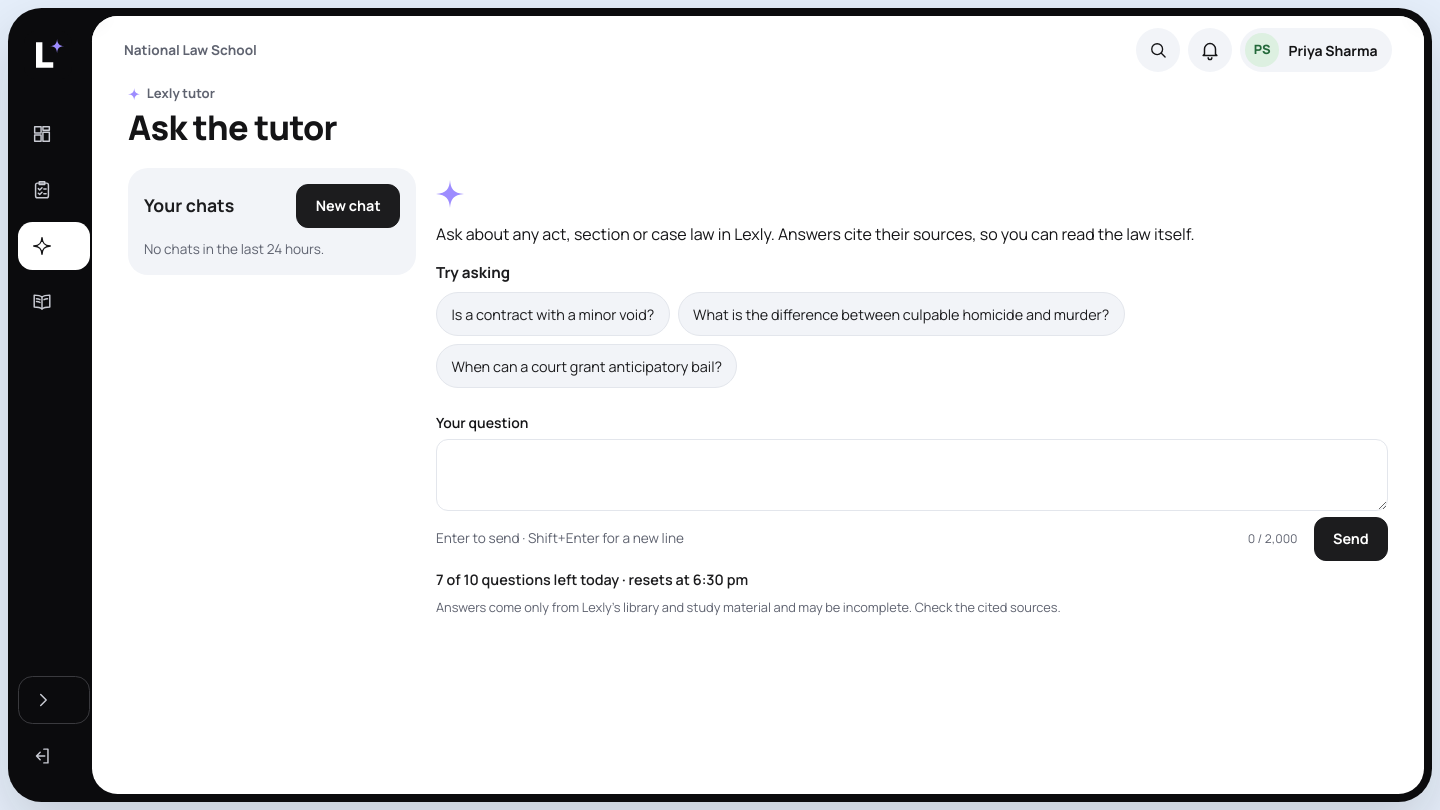
Test: tutor (F5a.3) › Edit question puts a failed question back in the composer
Expected: the text "7 of 10 questions left today · resets at 6:30 pm" is shown, [436,570,748,589]
Type "Is a contract with a minor void?" into the text box labelled "Your question" at [912, 475], box [436,439,1388,511]
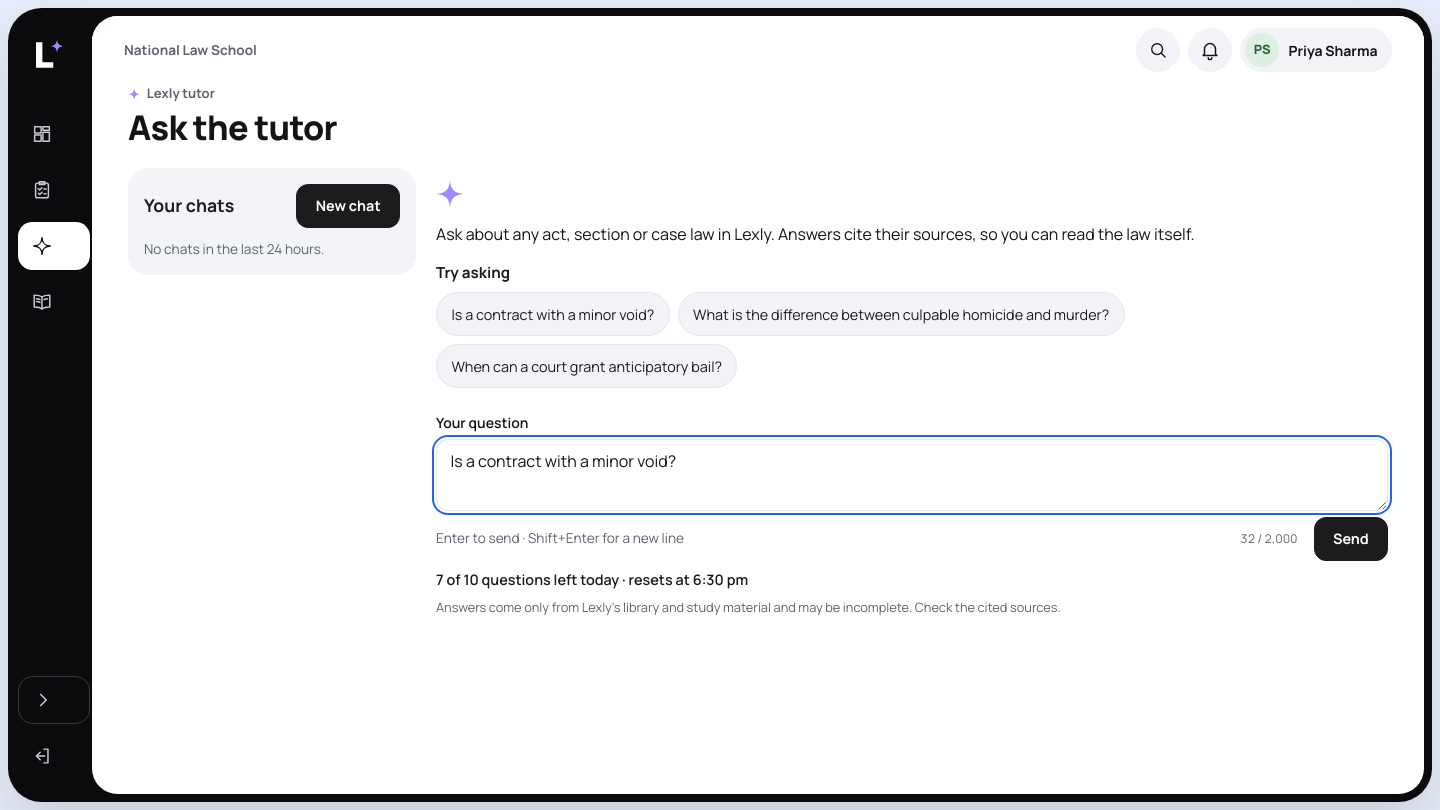
Press Enter
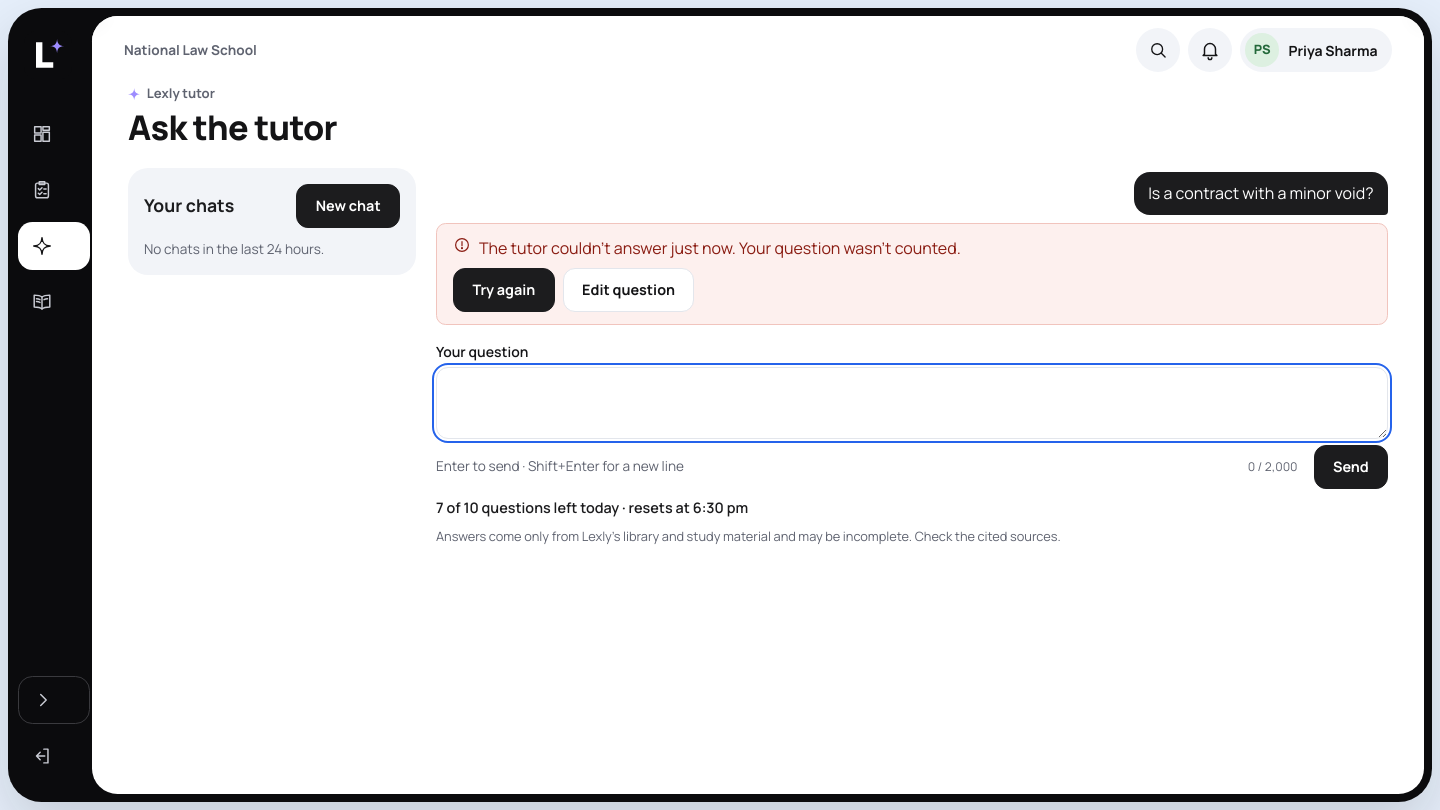
Click the button "Edit question" at [629, 290], box [563,268,694,312]
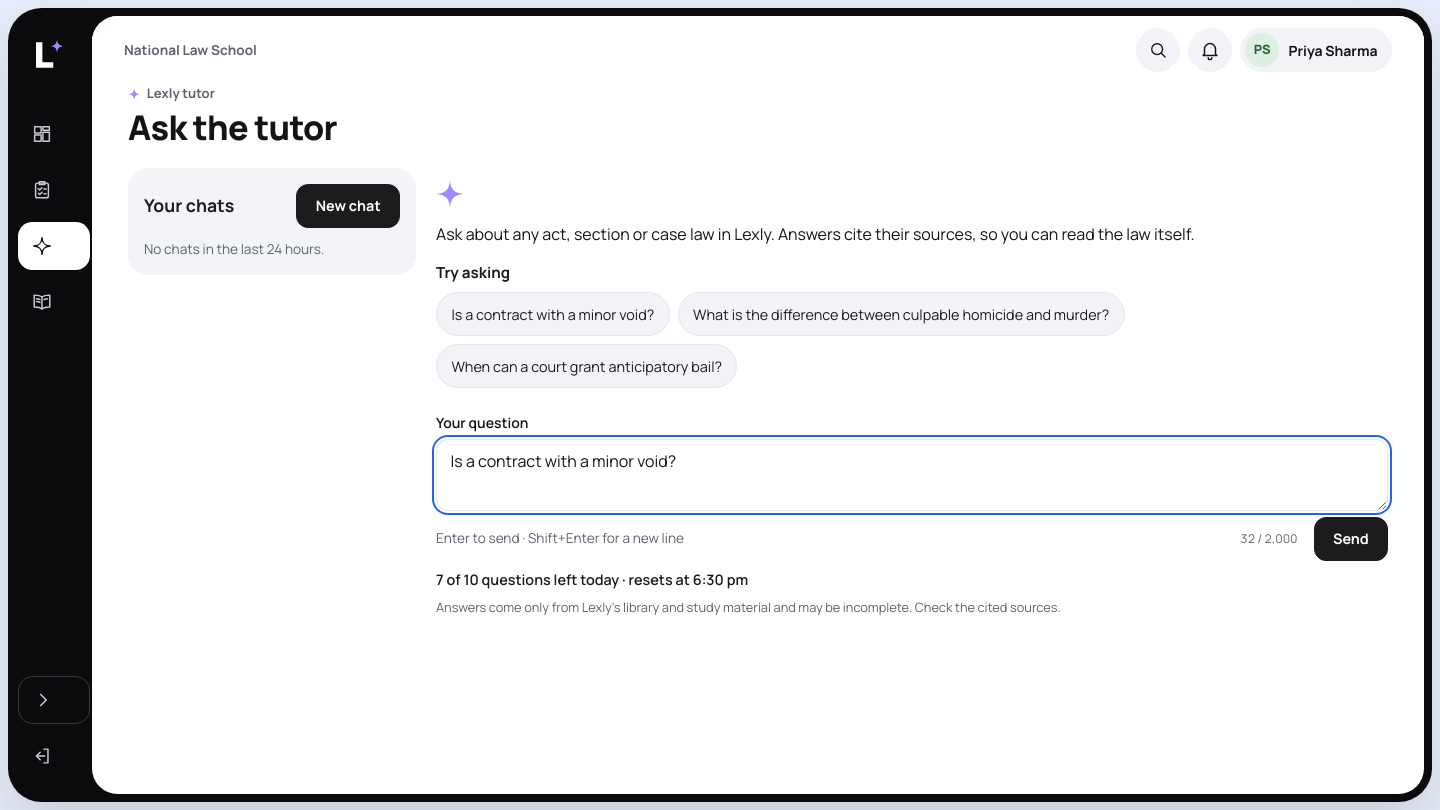
Result: the message is gone
